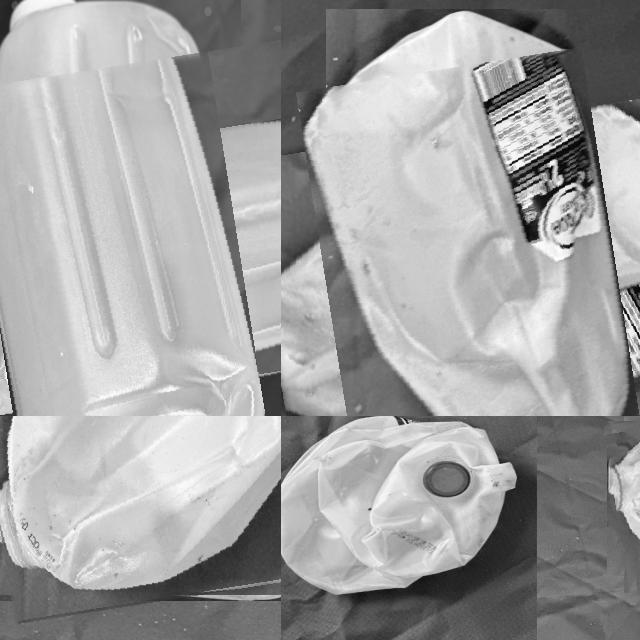milk-jug: (281, 53, 640, 416), (0, 54, 281, 416), (0, 416, 281, 611), (281, 416, 518, 598)
